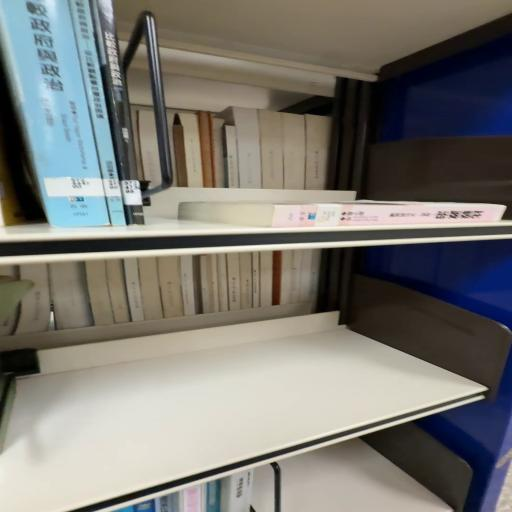flat: (179, 202, 506, 229)
